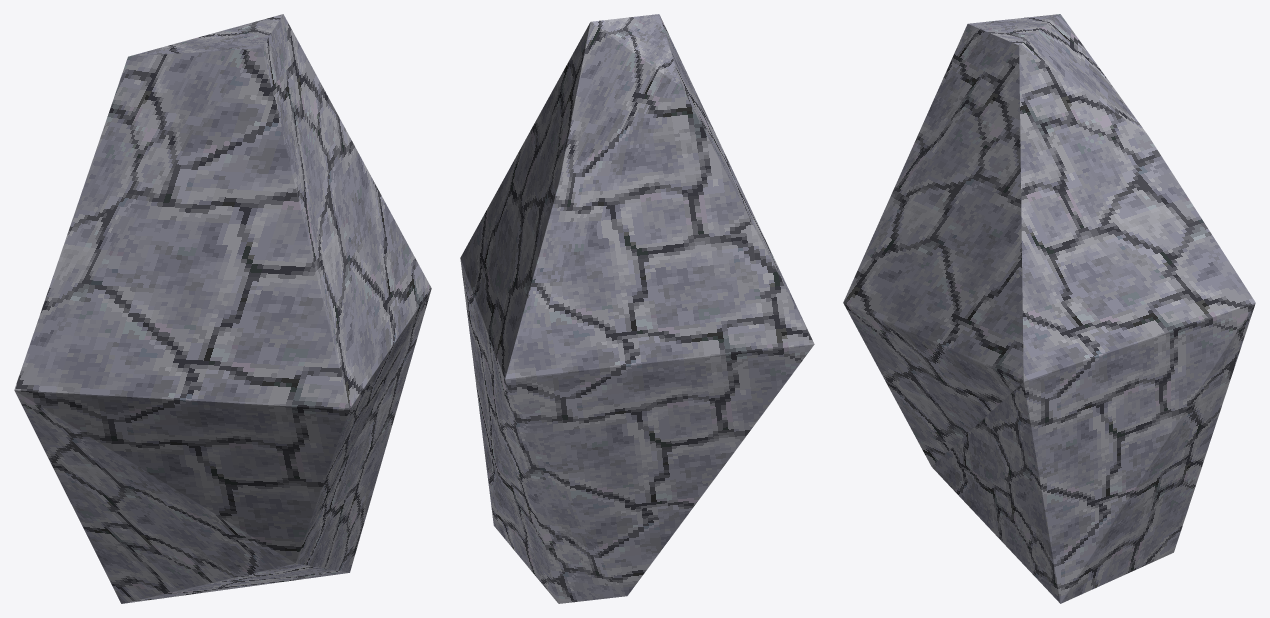
File: ki_iwa.glb
The picture shows the model from 3 angles, left to right: view 1: azimuth 30°, elevation 25°; view 2: azimuth 150°, elevation 25°; view 3: azimuth 270°, elevation 25°; orthographic projection. The views are drawn at different scales.
Visible parts, largest first — view 1: ki_iwa; view 2: ki_iwa; view 3: ki_iwa.
Boxes of the visible parts, bbox=[...] form: ki_iwa: bbox=[14, 14, 431, 603]; ki_iwa: bbox=[460, 14, 814, 603]; ki_iwa: bbox=[843, 14, 1255, 603].
Bounding box in the file's own units: 74.7 × 104 × 73.55.
1 material, 1 textured.
